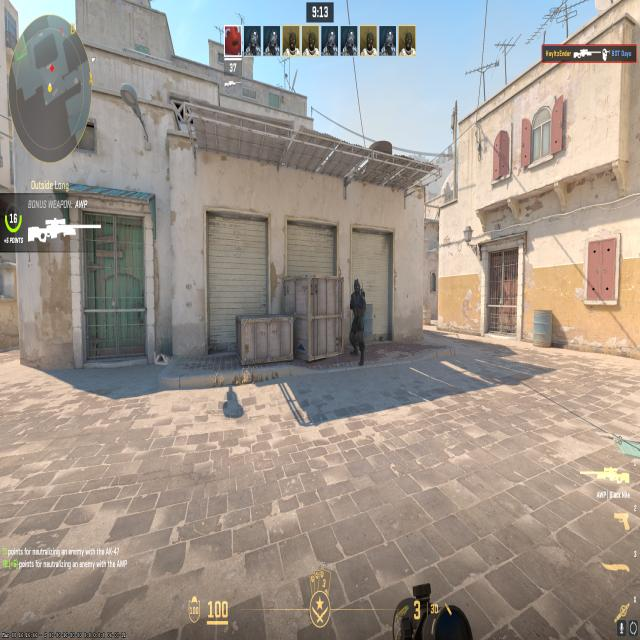ct: (346, 272, 371, 366)
